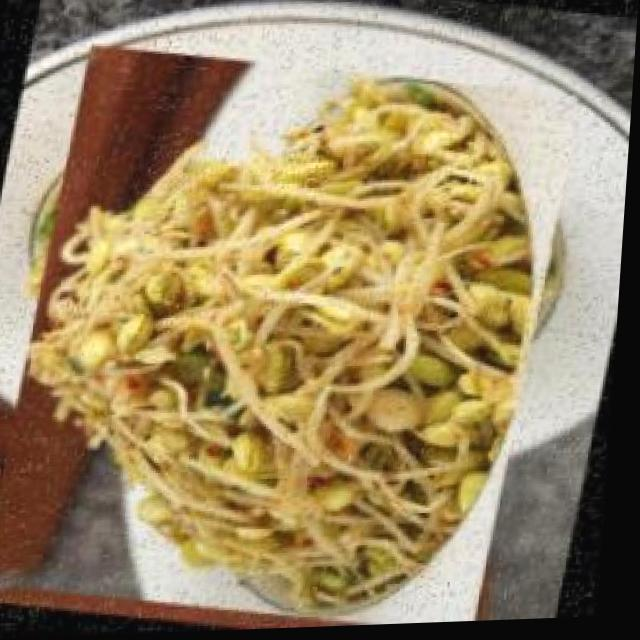mung_bean_sprouts: (0, 38, 598, 640)
